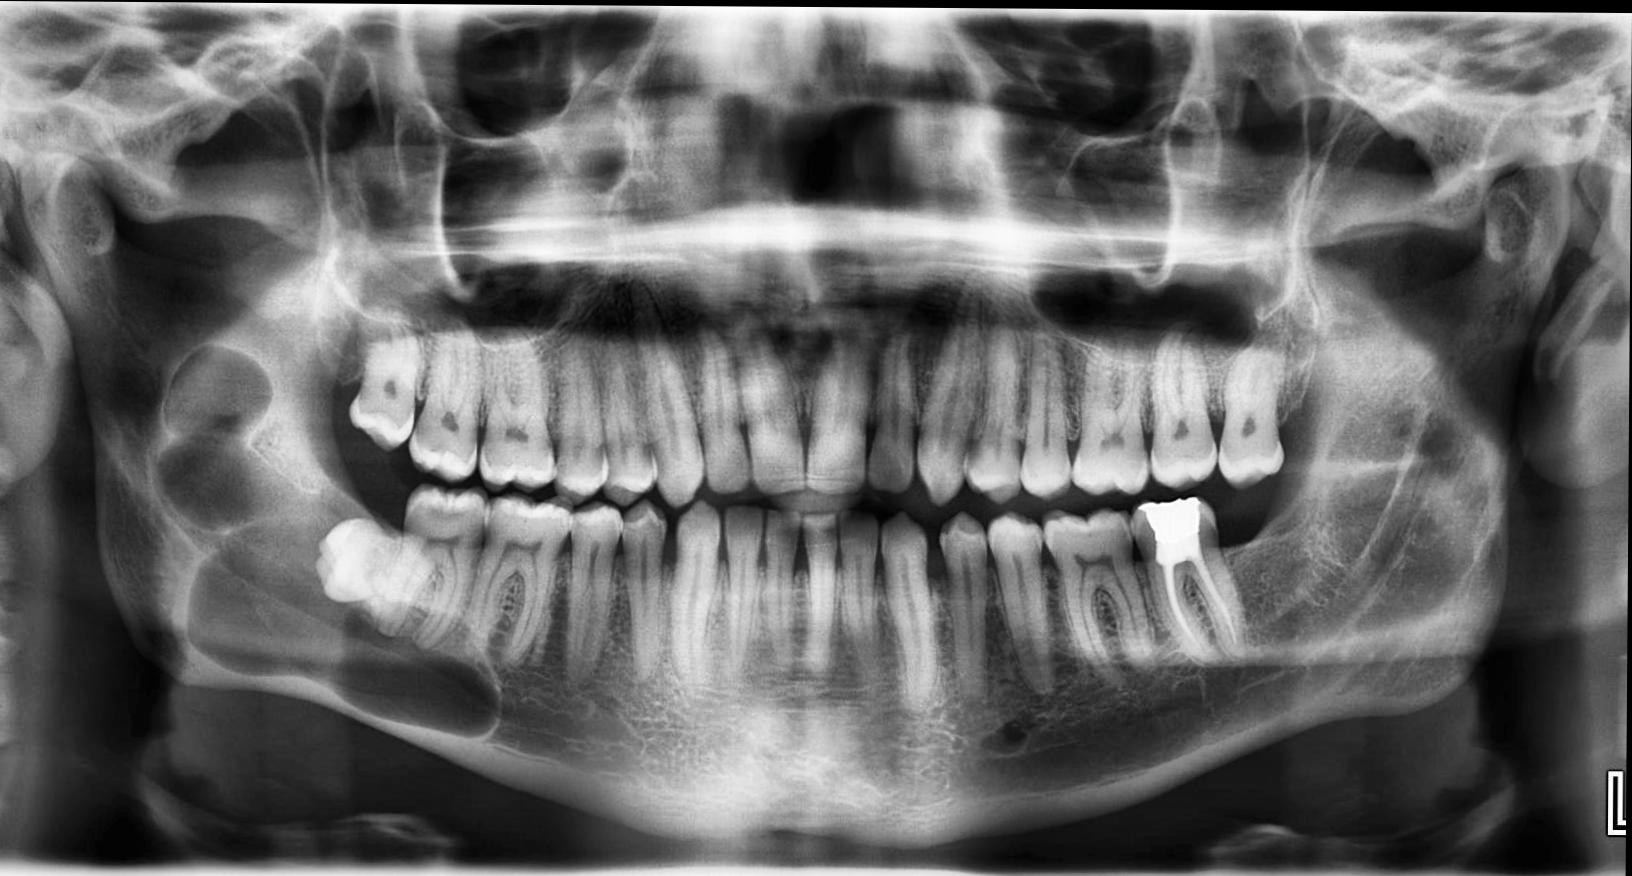okc: (152, 340, 506, 740)
